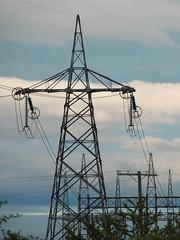power_tower: (14, 12, 141, 240)
